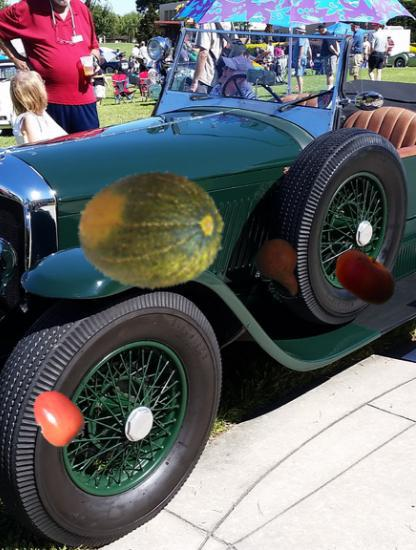Kaki: (29, 387, 88, 446)
Melon: (80, 150, 227, 297)
Nectarine: (332, 244, 399, 311)
Pear: (249, 236, 313, 300)
